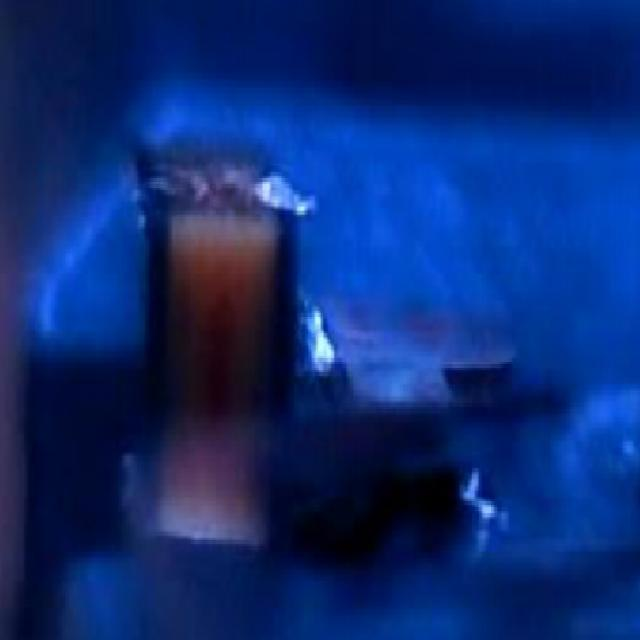No Good: (284, 273, 364, 410)
